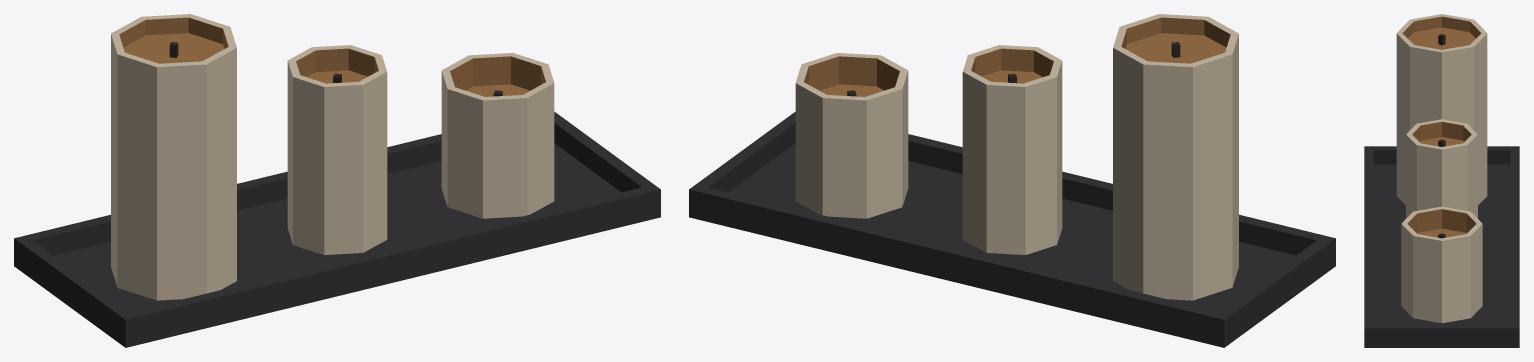
Rendered from FN_Candles_Pillar.obj.
3 views of the same model, side by side, from view 1: azimuth 30°, elevation 25°; view 2: azimuth 150°, elevation 25°; view 3: azimuth 270°, elevation 25° (orthographic). The views are drawn at different scales.
Visible parts, largest first — view 1: FN_Candles_Pillar; view 2: FN_Candles_Pillar; view 3: FN_Candles_Pillar.
Part boxes in pixels (x1,y1,x2,y2): FN_Candles_Pillar: (14, 14, 660, 347); FN_Candles_Pillar: (689, 14, 1335, 347); FN_Candles_Pillar: (1364, 14, 1519, 347).
Size of the model in its own units: 0.36 by 0.155 by 0.13.
1 material, 1 textured.
